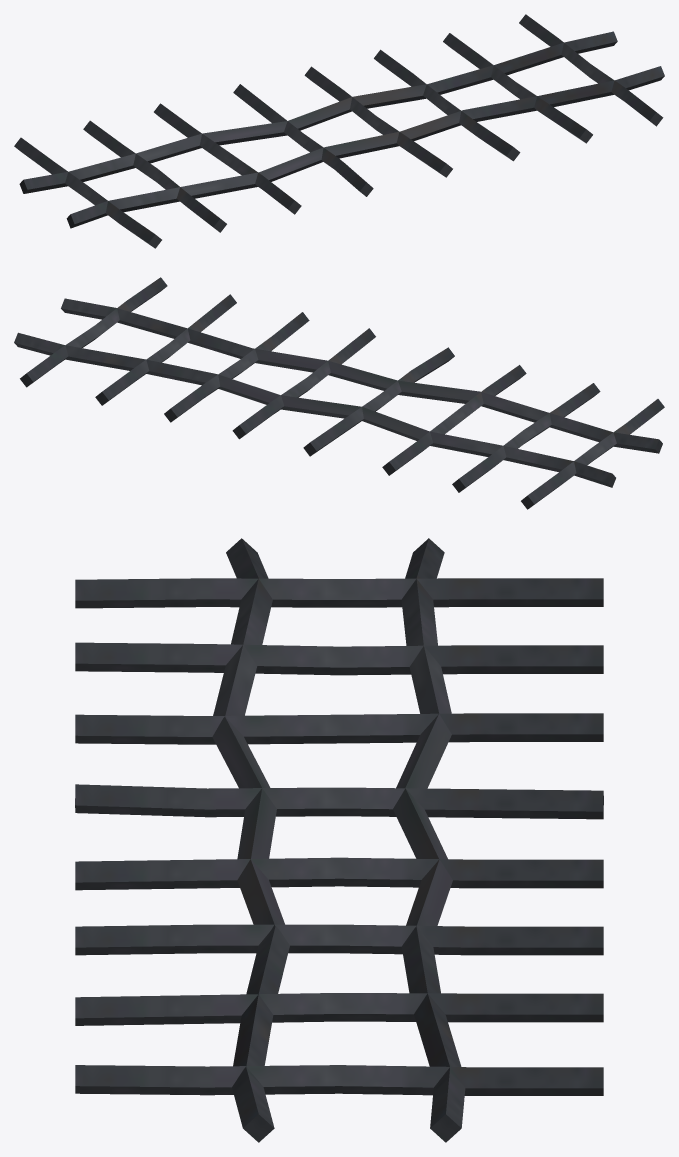
The model's file is Gate2.FBX.
3 views of the same model, one above another, from view 1: azimuth 30°, elevation 25°; view 2: azimuth 150°, elevation 25°; view 3: azimuth 270°, elevation 25° (orthographic). The views are drawn at different scales.
Visible parts, largest first — view 1: pCylinder10_1__Metal00; view 2: pCylinder10_1__Metal00; view 3: pCylinder10_1__Metal00.
Part boxes in pixels (bbox=[...]): pCylinder10_1__Metal00: bbox=[14, 14, 664, 248]; pCylinder10_1__Metal00: bbox=[14, 277, 664, 509]; pCylinder10_1__Metal00: bbox=[75, 538, 603, 1142].
Size of the model in its own units: 860 by 20 by 334.
